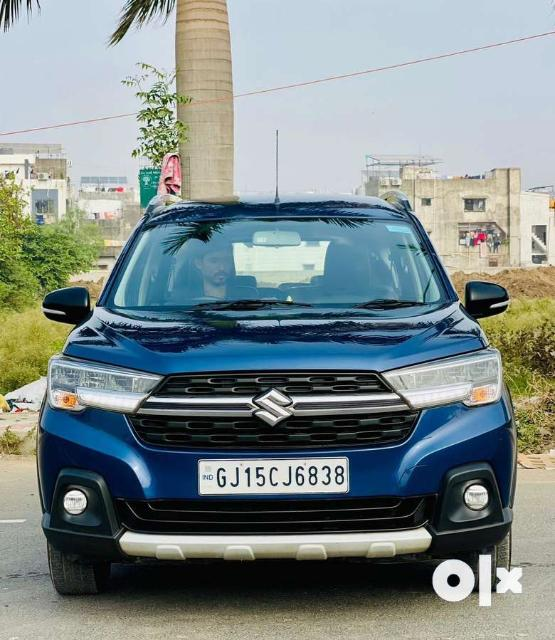Indian_Number_Plate: (198, 458, 352, 494)
